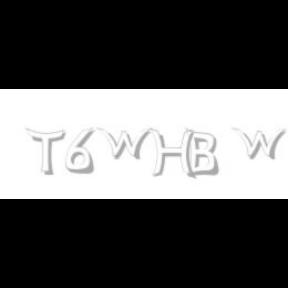6: (66, 128, 94, 176)
B: (185, 128, 219, 178)
H: (150, 128, 196, 180)
T: (25, 128, 65, 176)
w: (96, 128, 156, 160)
